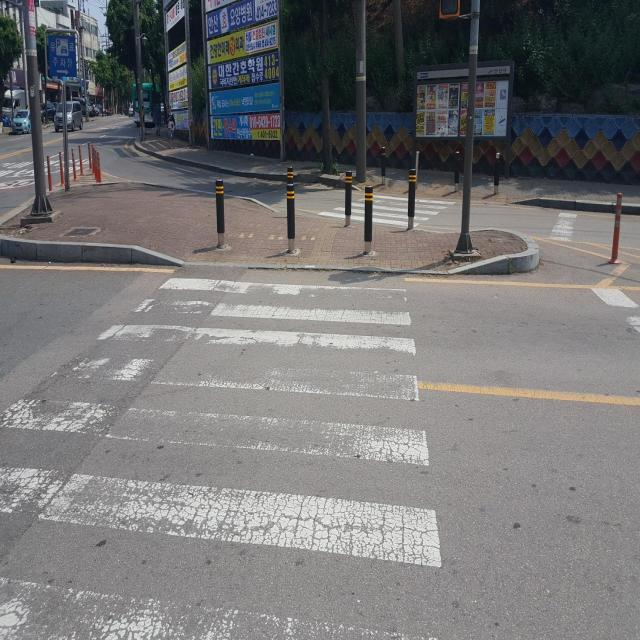횡단보도: (1, 270, 445, 637), (316, 193, 457, 230)
